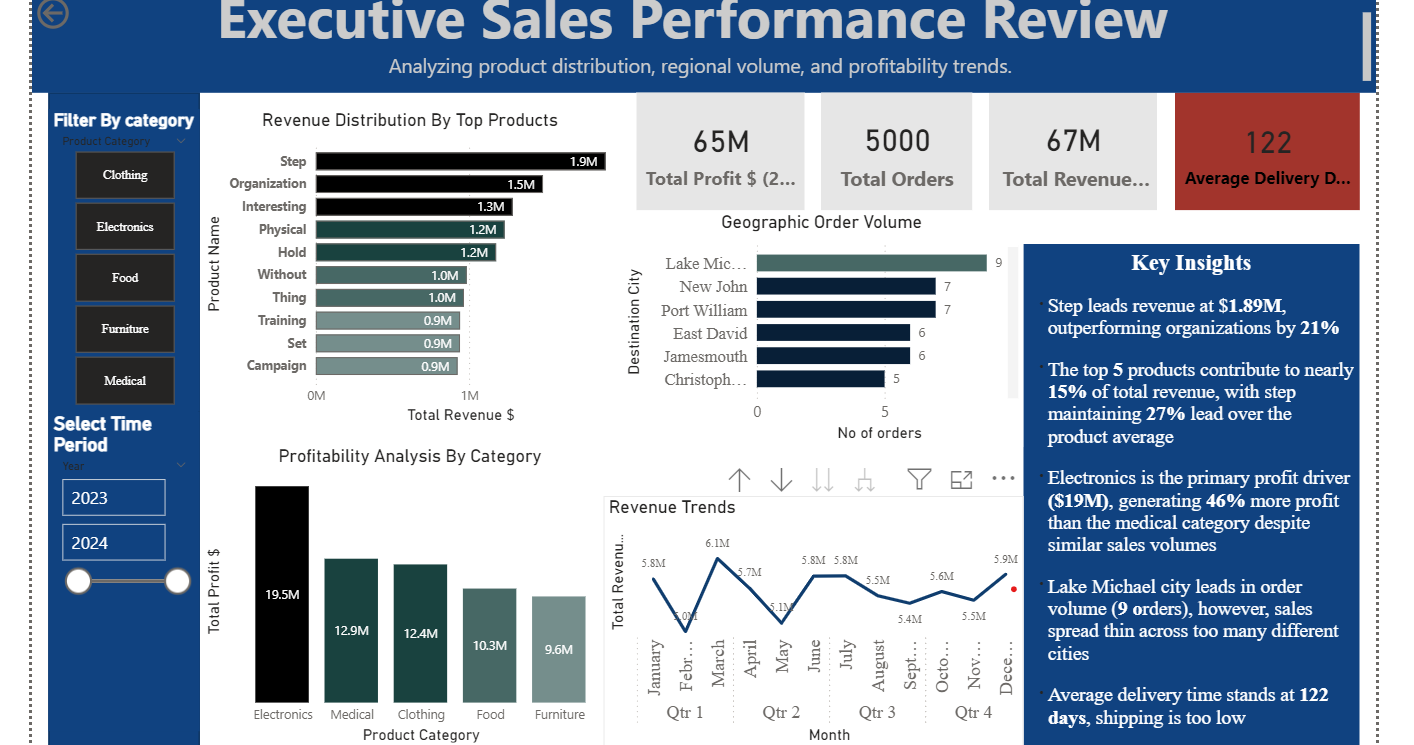

The dashboard page shown, as its layout file describes it:
{"tool":"powerbi","page":{"name":"Page 1","canvas":[1280,720],"ordinal":0},"visuals":[{"type":"shape","box":[16,96,144,624],"z":0},{"type":"card","fields":{"Values":["Avg(Clean_Processing.Delivery_days)"]},"box":[1088,96,176,112],"z":1000},{"type":"card","fields":{"Values":["Sum(Clean_Processing.Total_revenue $)"]},"box":[912,96,160,112],"z":2000},{"type":"textbox","box":[0,0,1280,96],"z":3000},{"type":"card","fields":{"Values":["CountNonNull(Clean_Processing.order_id)"]},"box":[752,96,144,112],"z":4000},{"type":"card","fields":{"Values":["Sum(Clean_Processing.Profit $)"]},"box":[576,96,160,112],"z":5000},{"type":"barChart","title":"Revenue Distribution By Top Products","fields":{"Category":["Clean_Processing.Product_name"],"Y":["Sum(Clean_Processing.Total_revenue $)"]},"box":[160,112,400,304],"z":6000},{"type":"columnChart","title":" Profitability Analysis By Category","fields":{"Category":["Clean_Processing.Product Category"],"Y":["Sum(Clean_Processing.Profit $)"],"Series":["Clean_Processing.Product Category"]},"box":[160,432,400,288],"z":7000},{"type":"clusteredBarChart","title":" Geographic Order Volume","fields":{"Category":["Clean_Processing.Destination_city"],"Y":["CountNonNull(Clean_Processing.order_id)"]},"box":[560,208,384,224],"z":8000},{"type":"textbox","box":[944,240,320,480],"z":9000},{"type":"lineChart","title":"Revenue Trends","fields":{"Y":["Sum(Clean_Processing.Total_revenue $)"],"Category":["Clean_Processing.Order_date2.Variation.Date Hierarchy.Quarter","Clean_Processing.Order_date2.Variation.Date Hierarchy.Month"]},"box":[544,480,400,240],"z":10000},{"type":"actionButton","box":[0,0,100,40],"z":11000},{"type":"slicer","title":"Filter By category","fields":{"Values":["Clean_Processing.Product Category"]},"box":[16,112,144,288],"z":12000},{"type":"slicer","title":"Select Time Period","fields":{"Values":["Clean_Processing.Year"]},"box":[16,400,144,304],"z":13000}]}

Visuals, with their boxes in screenshot pixels (x1, y1, x2, y2):
shape: pyautogui.locateOnScreen(43, 87, 195, 744)
card - Avg(Clean_Processing.Delivery_days): pyautogui.locateOnScreen(1175, 87, 1361, 205)
card - Sum(Clean_Processing.Total_revenue $): pyautogui.locateOnScreen(989, 87, 1158, 205)
textbox: pyautogui.locateOnScreen(26, 0, 1378, 87)
card - CountNonNull(Clean_Processing.order_id): pyautogui.locateOnScreen(820, 87, 972, 205)
card - Sum(Clean_Processing.Profit $): pyautogui.locateOnScreen(634, 87, 803, 205)
"Revenue Distribution By Top Products" barChart: pyautogui.locateOnScreen(195, 104, 617, 425)
" Profitability Analysis By Category" columnChart: pyautogui.locateOnScreen(195, 442, 617, 744)
" Geographic Order Volume" clusteredBarChart: pyautogui.locateOnScreen(617, 205, 1023, 442)
textbox: pyautogui.locateOnScreen(1023, 239, 1361, 744)
"Revenue Trends" lineChart: pyautogui.locateOnScreen(600, 492, 1023, 744)
actionButton: pyautogui.locateOnScreen(26, 0, 131, 28)
"Filter By category" slicer: pyautogui.locateOnScreen(43, 104, 195, 408)
"Select Time Period" slicer: pyautogui.locateOnScreen(43, 408, 195, 729)
